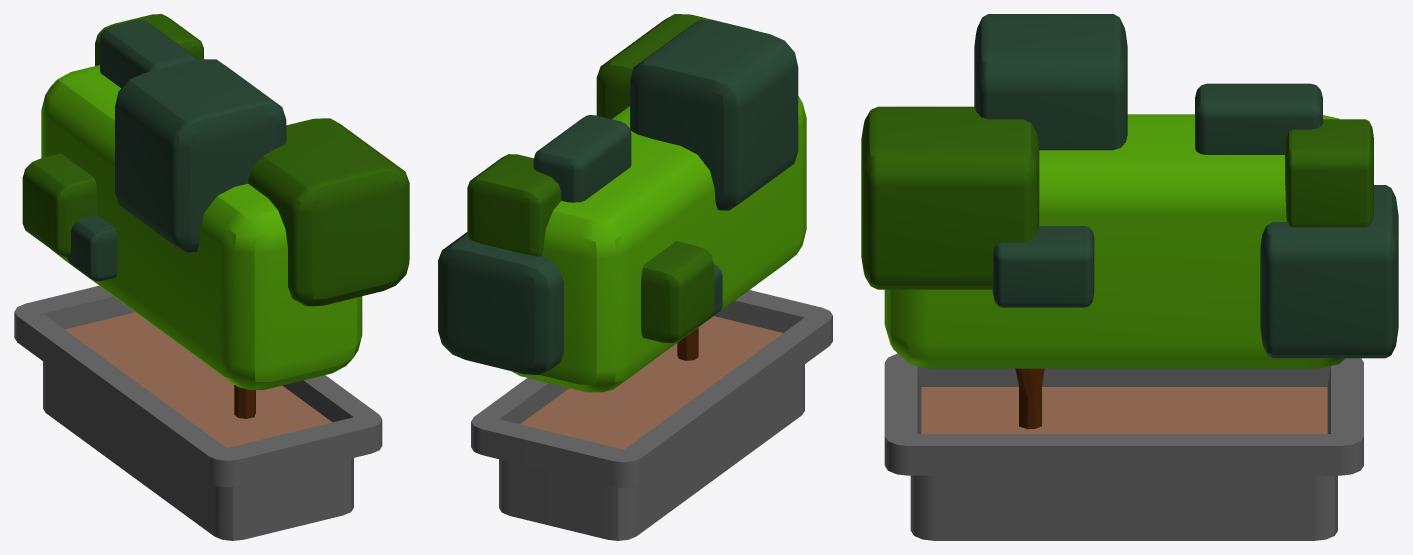
Rendered from Prop_Bush.fbx.
3 renders of one model, left to right at view 1: azimuth 30°, elevation 25°; view 2: azimuth 150°, elevation 25°; view 3: azimuth 270°, elevation 25°, orthographic. The views are drawn at different scales.
Visible parts, largest first — view 1: Vaso1, Folhagem1, Folhagem3, Folhagem2, Folhagem6, Folhagem8, Folhagem7, Folhagem5, polySurface1; view 2: Vaso1, Folhagem1, Folhagem3, Folhagem4, Folhagem5, Folhagem6, Folhagem8, Folhagem2, polySurface1; view 3: Vaso1, Folhagem1, Folhagem2, Folhagem4, Folhagem3, Folhagem5, Folhagem8, Folhagem9, polySurface1.
Boxes of the visible parts, x1,y1,x2,y2 form: Vaso1: [14, 285, 382, 540]; Folhagem1: [41, 65, 362, 389]; Folhagem3: [115, 59, 286, 252]; Folhagem2: [248, 118, 409, 306]; Folhagem6: [22, 153, 96, 257]; Folhagem8: [100, 20, 197, 88]; Folhagem7: [67, 215, 117, 281]; Folhagem5: [95, 14, 203, 65]; polySurface1: [234, 385, 255, 418]; Vaso1: [471, 290, 832, 540]; Folhagem1: [511, 96, 806, 392]; Folhagem3: [630, 20, 798, 210]; Folhagem4: [438, 232, 563, 375]; Folhagem5: [467, 154, 561, 256]; Folhagem6: [641, 241, 714, 343]; Folhagem8: [533, 115, 631, 202]; Folhagem2: [596, 14, 751, 119]; polySurface1: [677, 327, 698, 360]; Vaso1: [884, 353, 1363, 540]; Folhagem1: [884, 114, 1344, 368]; Folhagem2: [861, 106, 1039, 289]; Folhagem4: [1260, 185, 1398, 358]; Folhagem3: [974, 14, 1127, 150]; Folhagem5: [1285, 119, 1373, 227]; Folhagem8: [1195, 83, 1322, 154]; Folhagem9: [992, 226, 1094, 307]; polySurface1: [1015, 368, 1044, 429].
Size of the model in its own units: 140 by 247 by 265.
